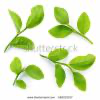Blueberry leaf: (24, 3, 45, 31), (68, 54, 98, 71), (9, 35, 36, 52), (24, 63, 48, 82), (44, 46, 70, 62), (76, 11, 92, 37), (7, 7, 21, 34), (53, 63, 67, 90), (48, 25, 74, 39), (52, 5, 70, 25), (72, 71, 88, 92), (9, 54, 23, 77), (14, 79, 28, 90)
